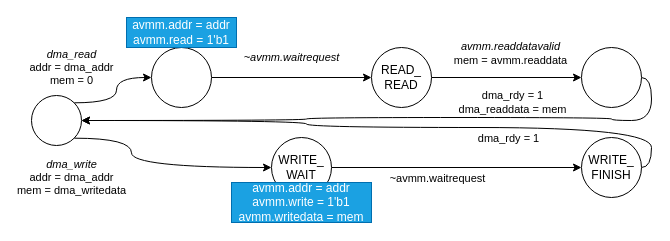
This 670x241 diagram has some shape labels left out. Each missing label, with the centre of its shape:
"IDLE" goes at pixel 56 120.
"READ_ FINISH" goes at pixel 611 77.
"READ_ WAIT" goes at pixel 181 77.
